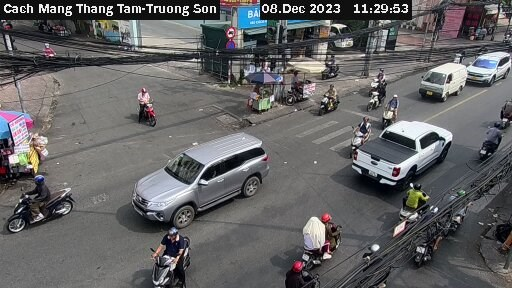car: (132, 129, 274, 227), (352, 115, 452, 192), (414, 55, 469, 104), (465, 47, 512, 86)
motorbike: (4, 181, 78, 234), (138, 231, 206, 288), (298, 218, 350, 260), (131, 96, 174, 137), (393, 181, 431, 225), (477, 123, 509, 163), (313, 83, 346, 115), (342, 121, 373, 152), (373, 95, 411, 120), (363, 69, 398, 94), (490, 94, 512, 125)
